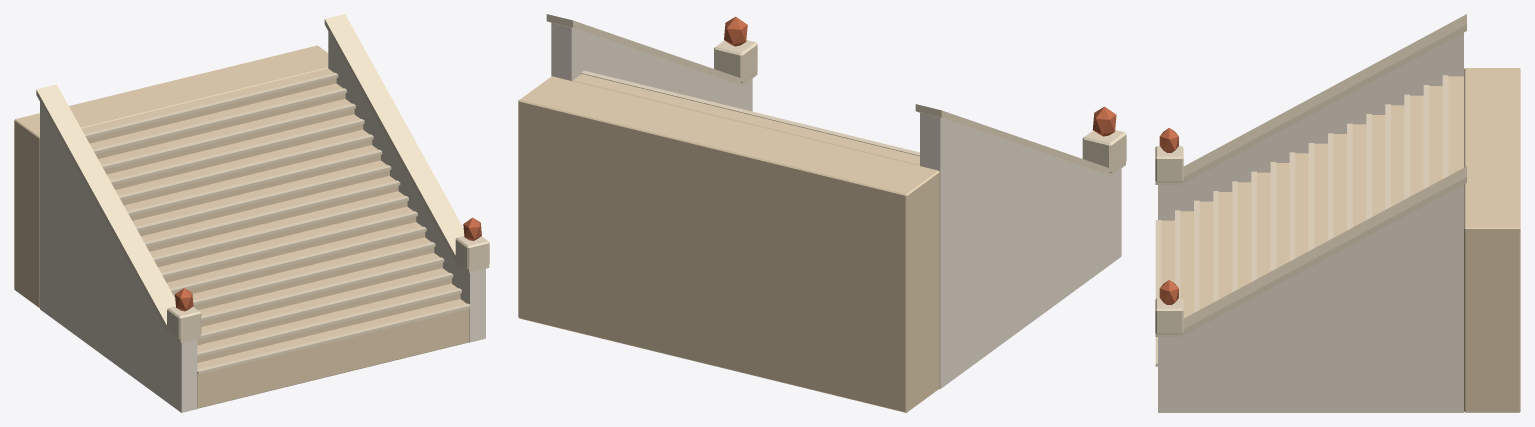
The model's file is stairs_wide.glb.
3 renders of one model, left to right at view 1: azimuth 30°, elevation 25°; view 2: azimuth 150°, elevation 25°; view 3: azimuth 270°, elevation 25°, orthographic. The views are drawn at different scales.
Parts seen in each view (by area): view 1: stairs_wide; view 2: stairs_wide; view 3: stairs_wide.
Boxes of the visible parts, bbox=[...] form: stairs_wide: bbox=[14, 14, 489, 412]; stairs_wide: bbox=[518, 14, 1126, 412]; stairs_wide: bbox=[1155, 14, 1520, 412].
Size of the model in its own units: 6.85 by 4.62 by 6.45.
